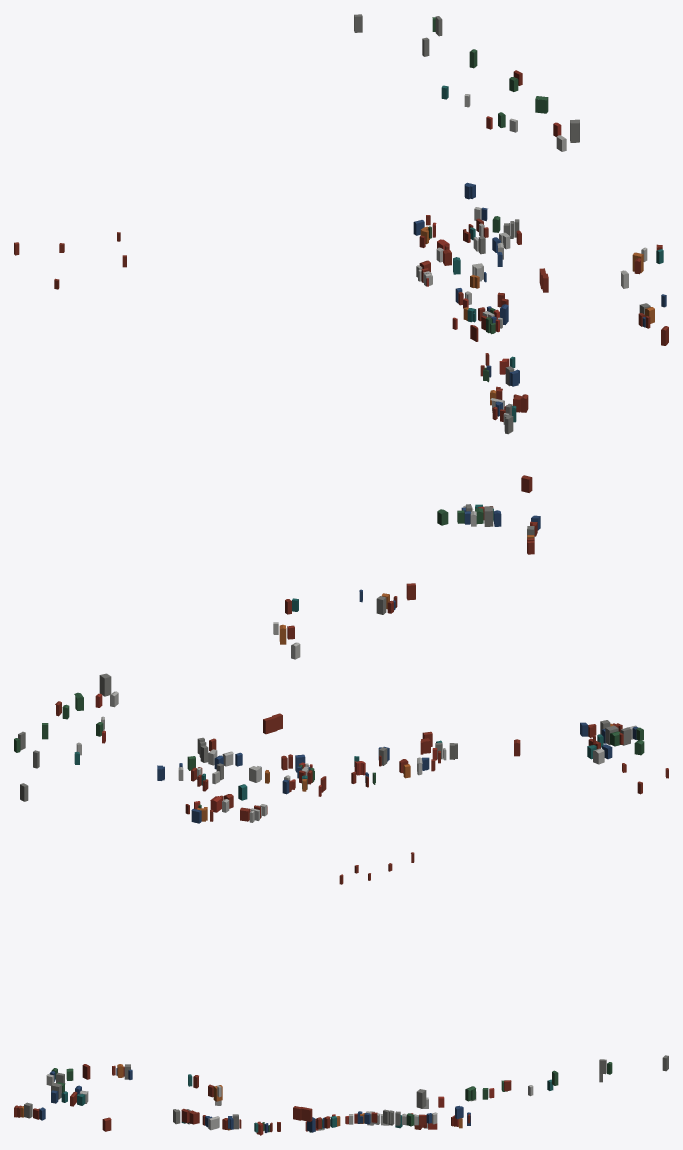
The model's file is near-15-27361-14873.306ccf75.glb.
3 views of the same model, one above another, from view 1: azimuth 30°, elevation 25°; view 2: azimuth 150°, elevation 25°; view 3: azimuth 270°, elevation 25° (orthographic). The views are drawn at different scales.
Bounding box in the file's own units: 933 × 324 × 1149.
